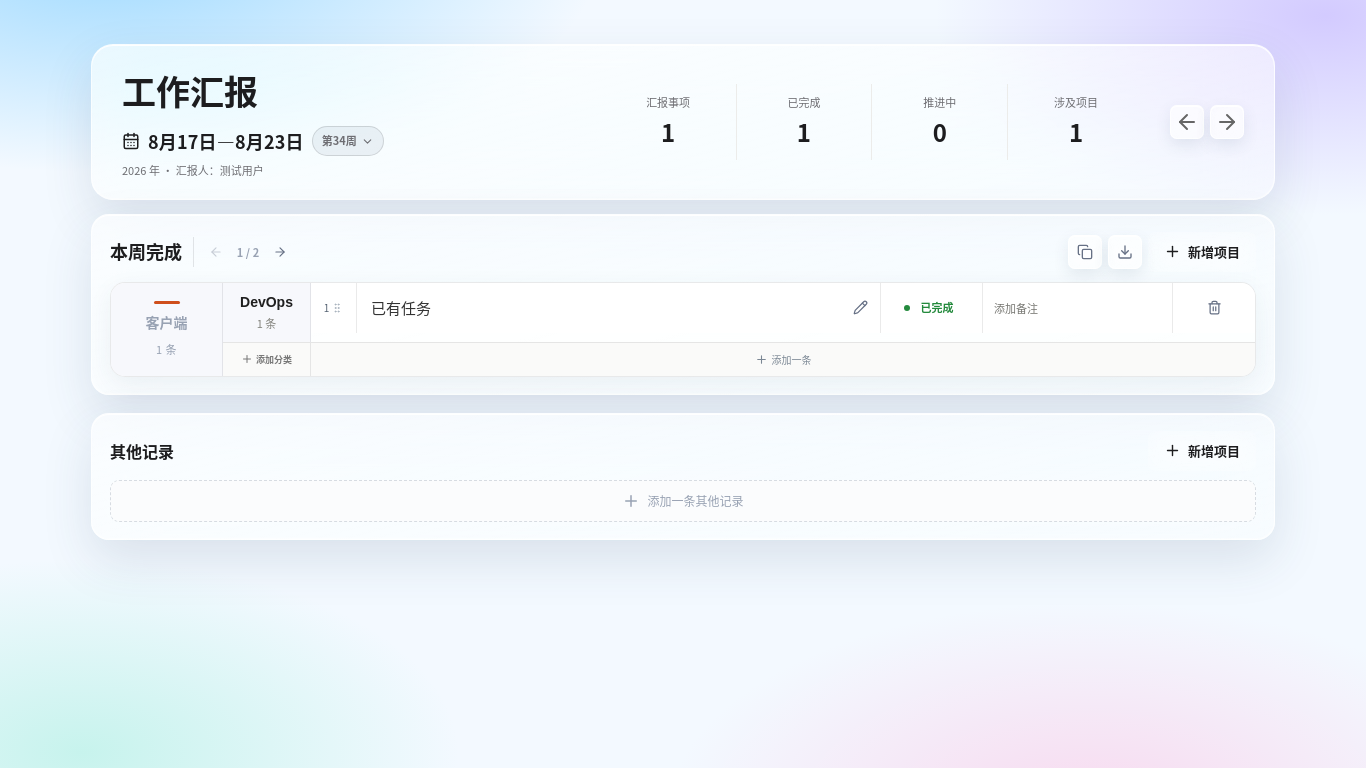
Test: interactive limits and login availability › adds a blank item with an existing active category from the unified picker
This screenshot has width=1366, height=768.
Click the button "添加分类".
click(266, 359)  # box [223, 343, 310, 376]
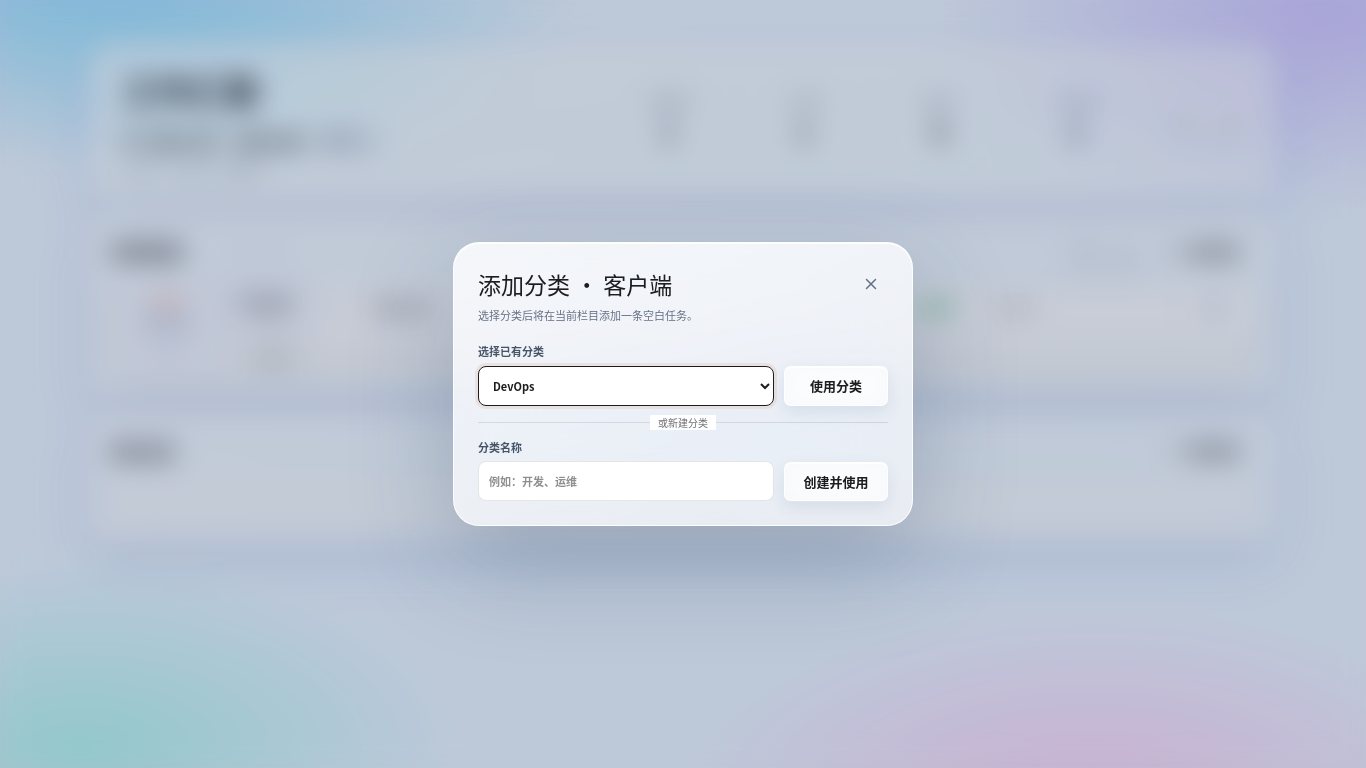
Result: the dialog "添加分类 · 客户端" shows "选择分类后将在当前栏目添加一条空白任务。" at [478, 306, 698, 322]
Press Escape
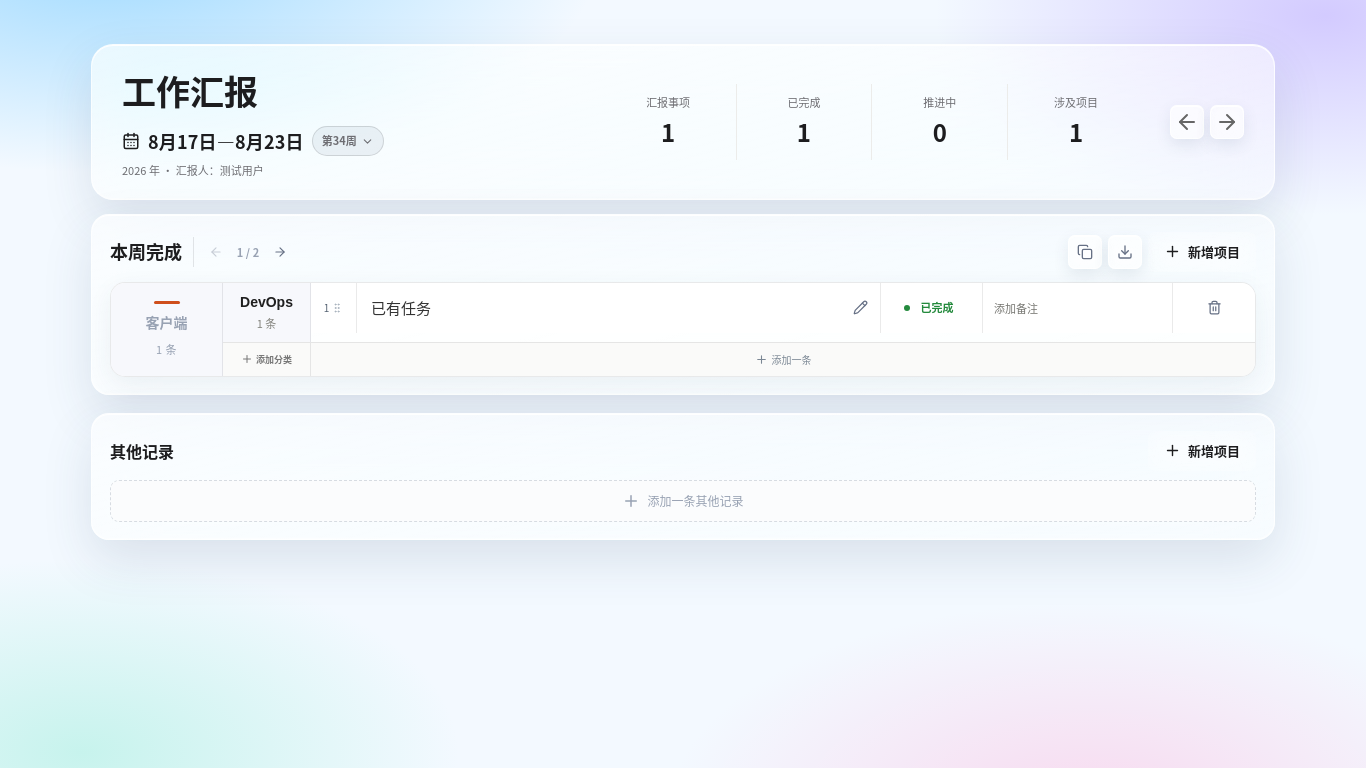
Result: the heading "添加分类 · 客户端" is gone
Click the button "添加分类".
click(266, 359)  # box [223, 343, 310, 376]
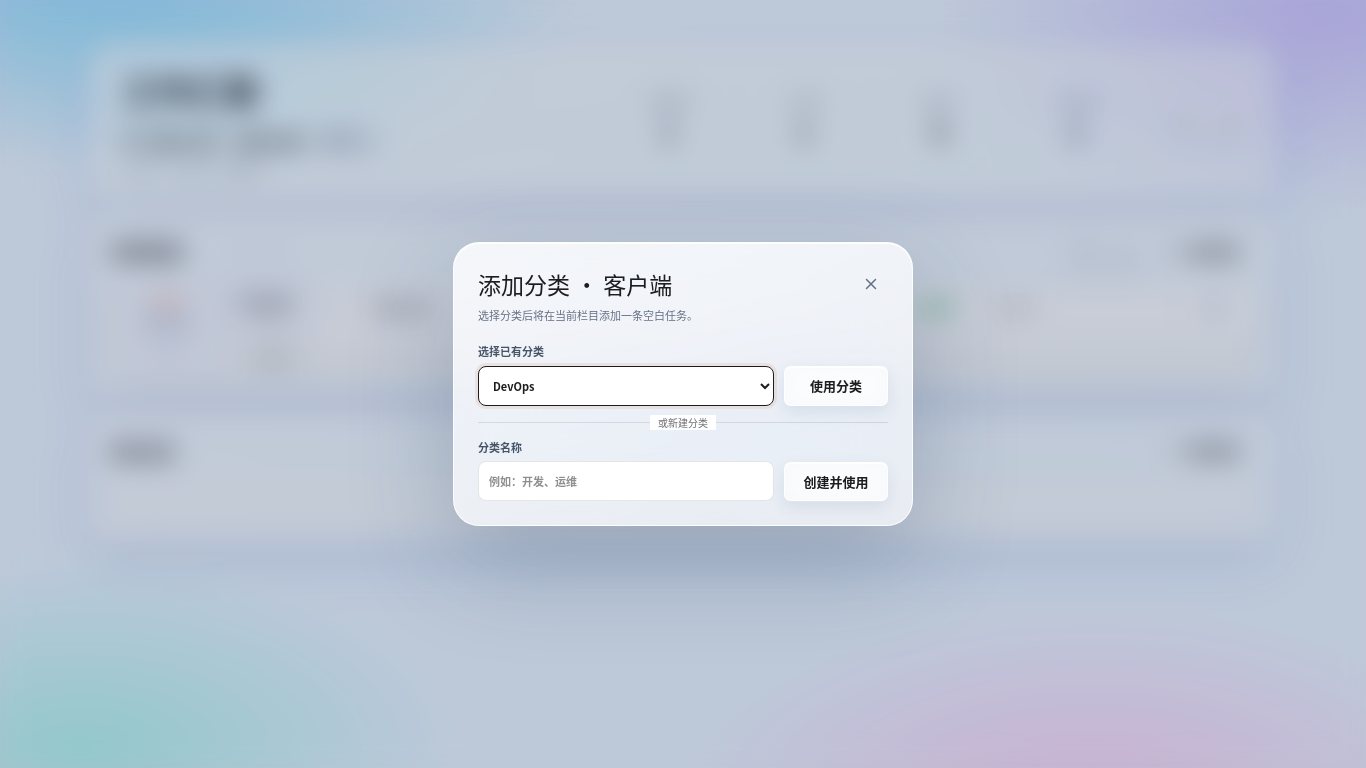
Result: the dialog "添加分类 · 客户端" is shown at [453, 242, 913, 526]
Select "运维" in the dropdown labelled "选择已有分类" at x=626, y=386, box [478, 366, 774, 406]
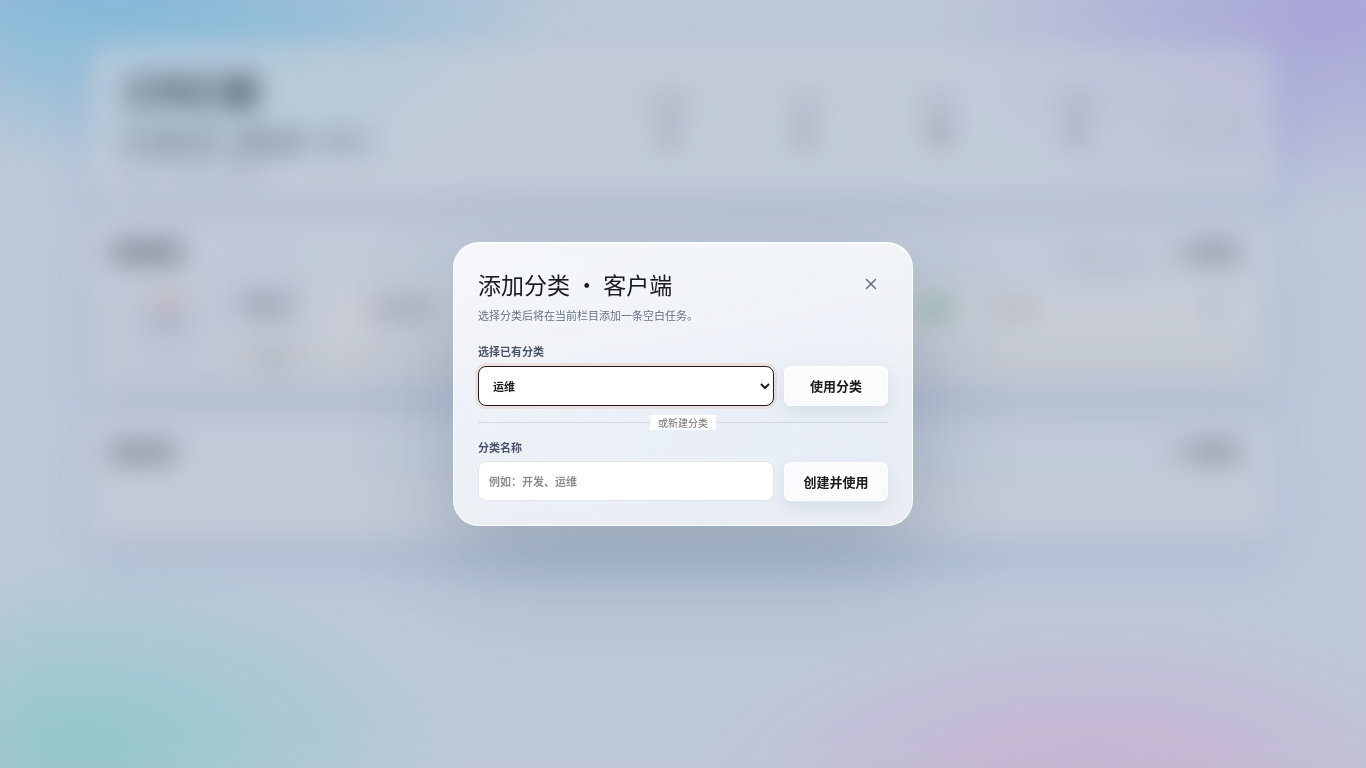
Click the button "使用分类".
click(836, 386)  # box [784, 366, 888, 406]
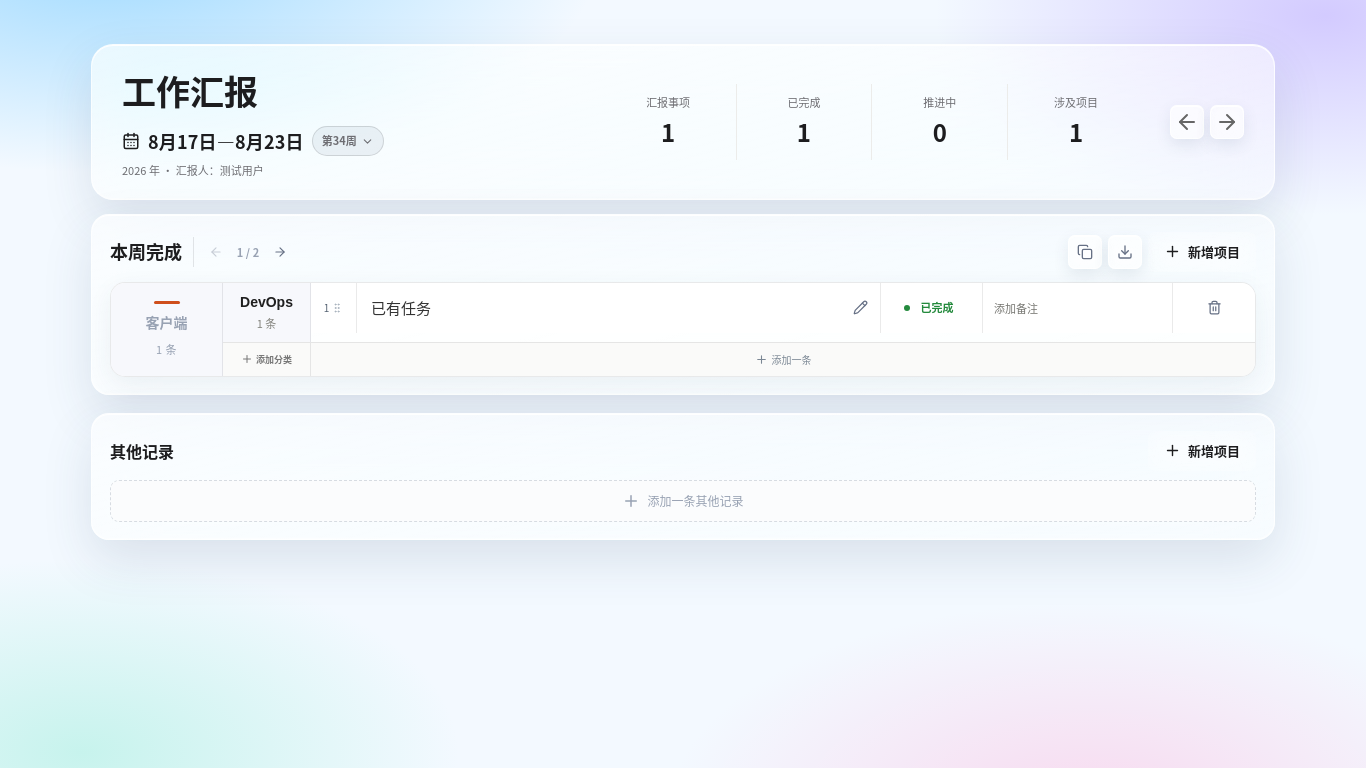
Result: the heading "添加分类 · 客户端" is gone
